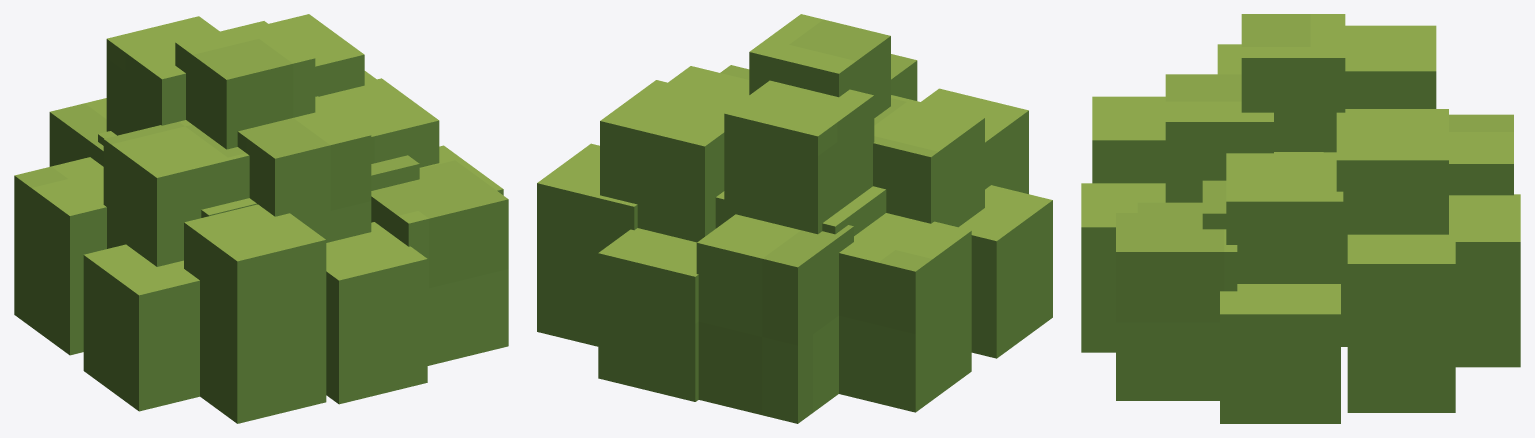
File: SM_VMF_Nature_Shrub_Low.fbx
3 views of the same model, side by side, from view 1: azimuth 30°, elevation 25°; view 2: azimuth 150°, elevation 25°; view 3: azimuth 270°, elevation 25° (orthographic).
Visible parts, largest first — view 1: SM_VMF_Nature_Shrub_Low_Foliage; view 2: SM_VMF_Nature_Shrub_Low_Foliage; view 3: SM_VMF_Nature_Shrub_Low_Foliage.
Part boxes in pixels (bbox=[...]): SM_VMF_Nature_Shrub_Low_Foliage: bbox=[14, 14, 508, 423]; SM_VMF_Nature_Shrub_Low_Foliage: bbox=[537, 14, 1052, 423]; SM_VMF_Nature_Shrub_Low_Foliage: bbox=[1081, 14, 1520, 423].
Size of the model in its own units: 106 by 71 by 102.
Materials: 1 (1 with a texture image).
